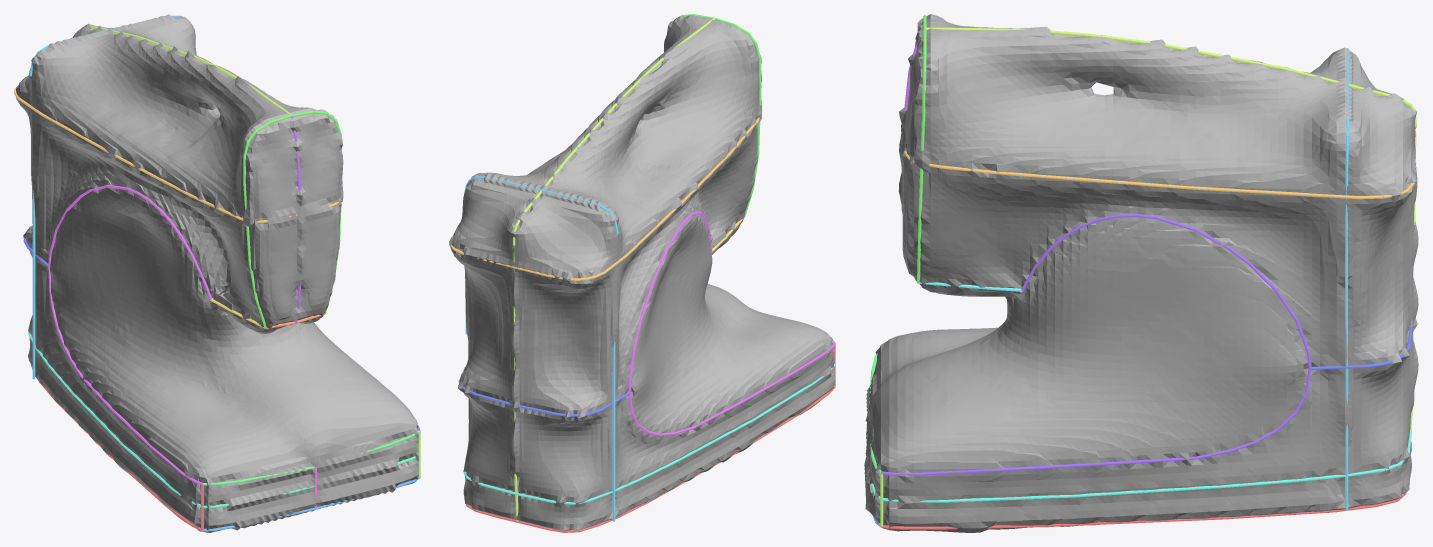
The model's file is t2f_sewing_machine.gltf.
3 renders of one model, left to right at view 1: azimuth 30°, elevation 25°; view 2: azimuth 150°, elevation 25°; view 3: azimuth 270°, elevation 25°, orthographic. The views are drawn at different scales.
Bounding box in the file's own units: 0.389 × 0.6253 × 0.6994.
